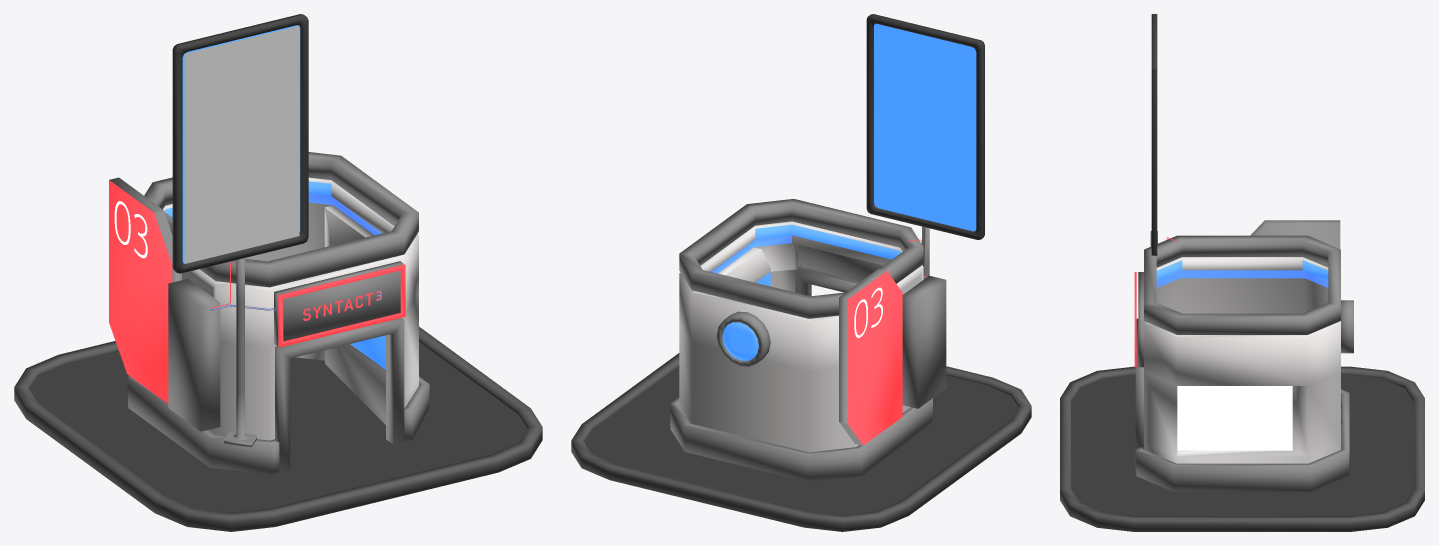
Rendered from syntact3_model.glb.
3 views of the same model, side by side, from view 1: azimuth 30°, elevation 25°; view 2: azimuth 150°, elevation 25°; view 3: azimuth 270°, elevation 25° (orthographic). The views are drawn at different scales.
Visible parts, largest first — view 1: Object, TV_Screen, Plane.005; view 2: Object, Plane.005; view 3: Object, Plane.005.
Part boxes in pixels (left/top/right/bottom): Object: left=14, top=14, right=542, bottom=531; TV_Screen: left=184, top=26, right=299, bottom=263; Plane.005: left=274, top=261, right=405, bottom=347; Object: left=571, top=14, right=1031, bottom=531; Plane.005: left=797, top=244, right=883, bottom=281; Object: left=1060, top=14, right=1424, bottom=531; Plane.005: left=1134, top=272, right=1143, bottom=367.
Bounding box in the file's own units: 4.35 × 4.98 × 4.35.
